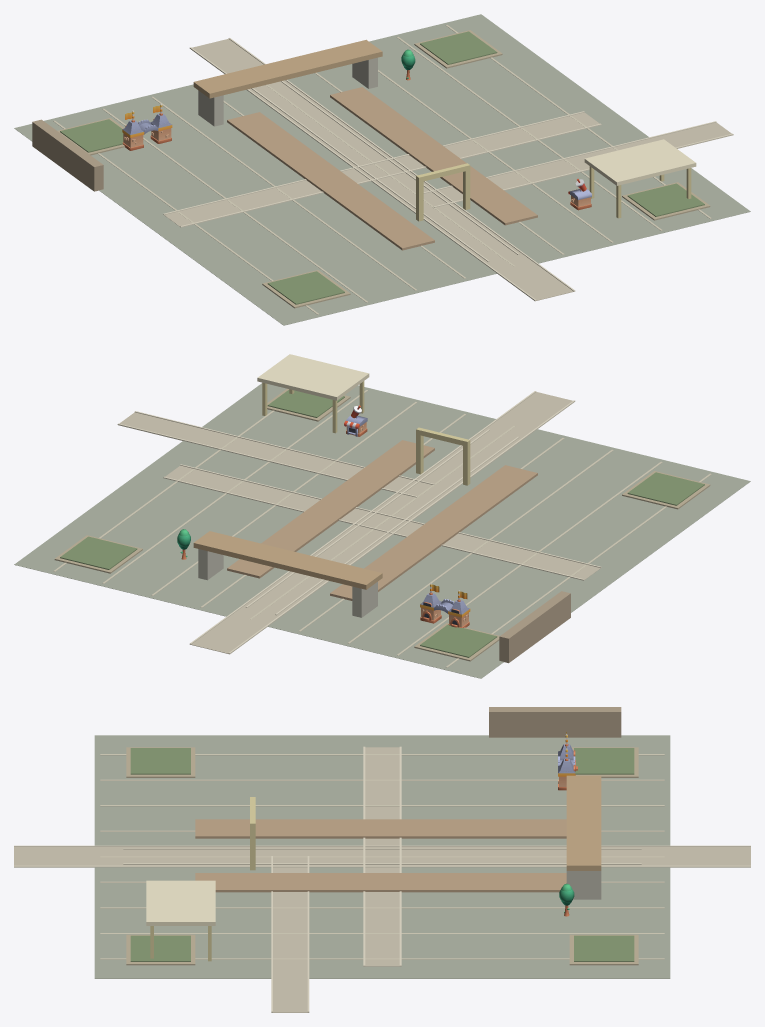
File: gardens-1-4.glb
3 renders of one model, top to bottom at view 1: azimuth 30°, elevation 25°; view 2: azimuth 150°, elevation 25°; view 3: azimuth 270°, elevation 25°, orthographic. The views are drawn at different scales.
Visible parts, largest first — view 1: gardens-1-4; view 2: gardens-1-4; view 3: gardens-1-4.
Boxes of the visible parts, <box> form: gardens-1-4: <box>14,14,750,325</box>; gardens-1-4: <box>14,354,750,678</box>; gardens-1-4: <box>14,707,750,1012</box>.
Bounding box in the file's own units: 230 × 18 × 256.
Materials: 15 (3 with a texture image).
